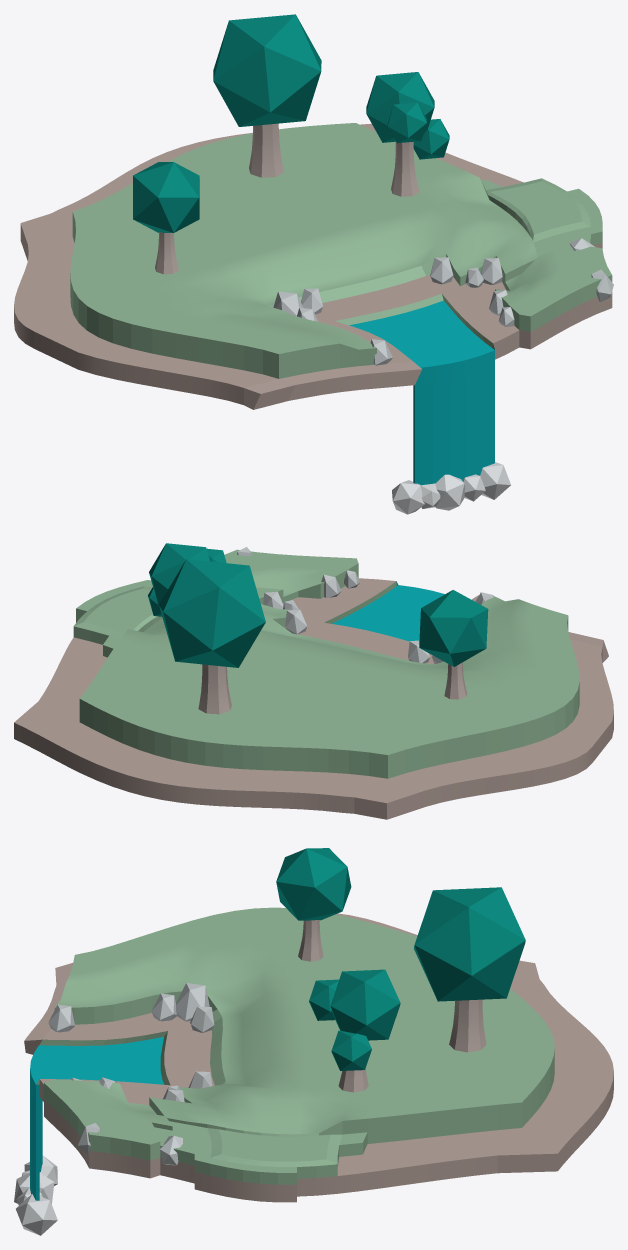
3 views of the same model, one above another, from view 1: azimuth 30°, elevation 25°; view 2: azimuth 150°, elevation 25°; view 3: azimuth 270°, elevation 25° (orthographic). The views are drawn at different scales.
Parts seen in each view (by area): view 1: pCube1; view 2: pCube1; view 3: pCube1.
Part boxes in pixels (x1,y1,x2,y2): pCube1: (14, 14, 613, 514); pCube1: (14, 543, 613, 819); pCube1: (14, 848, 613, 1235).
Bounding box in the file's own units: 32.99 × 30.66 × 18.93.
